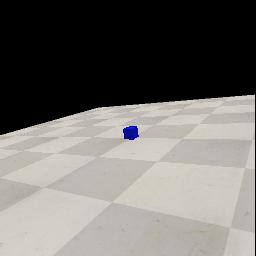box: (123, 126, 139, 140)
